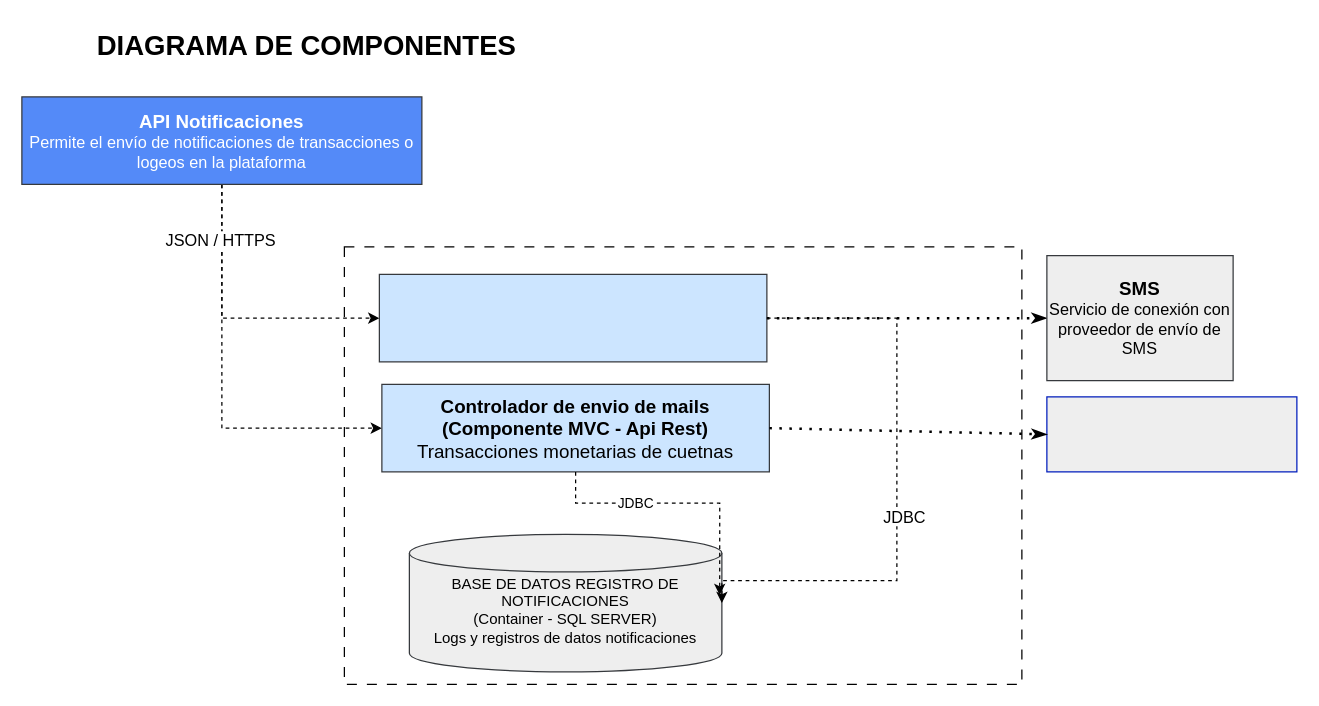
This 1319x706 diagram has some shape labels left out. The box of each missing label's shape, as (x1, y1, x2, y2) in pixels:
Controlador de sms (Componente MVC - Api Rest ) Datos generales ctas Bancarias: (378, 273, 767, 362)
Sistema de Email´s Mocrosoft Exchange: (1046, 396, 1297, 472)
